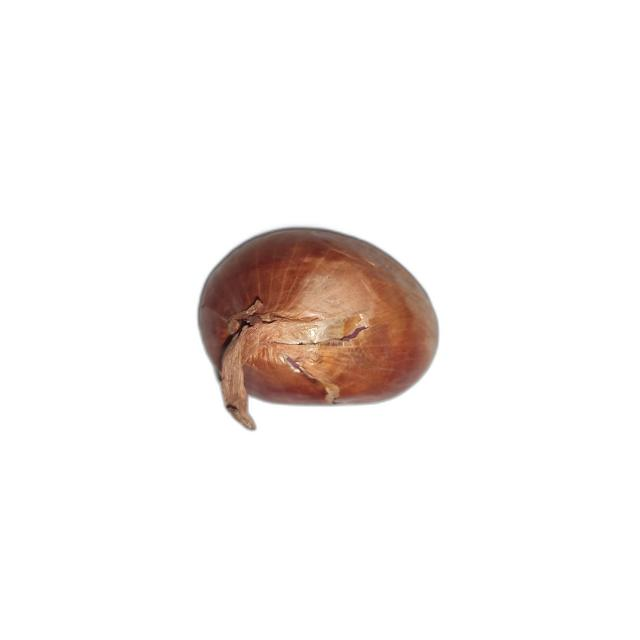onion: (198, 228, 440, 430)
